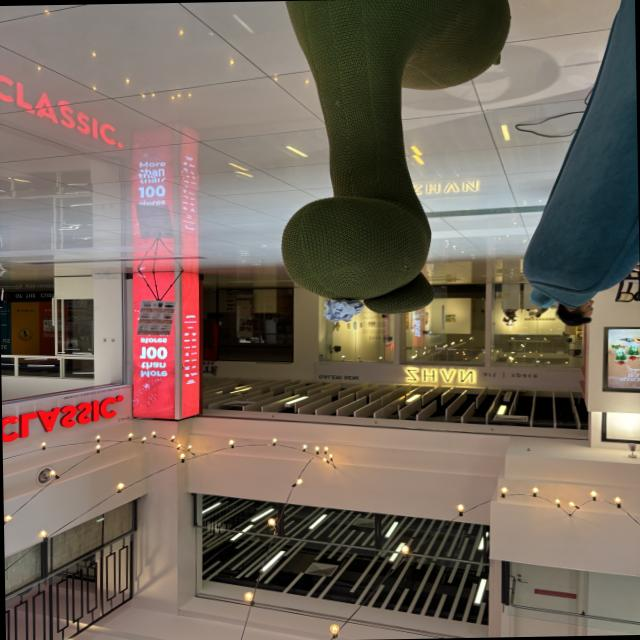crumpled_paper: (324, 298, 366, 324)
